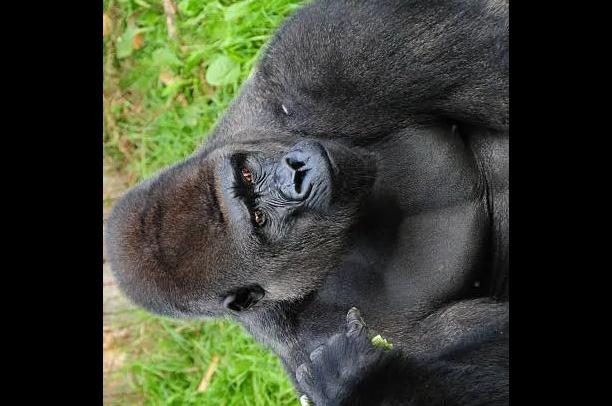gorille_Autres: (105, 0, 509, 406)
